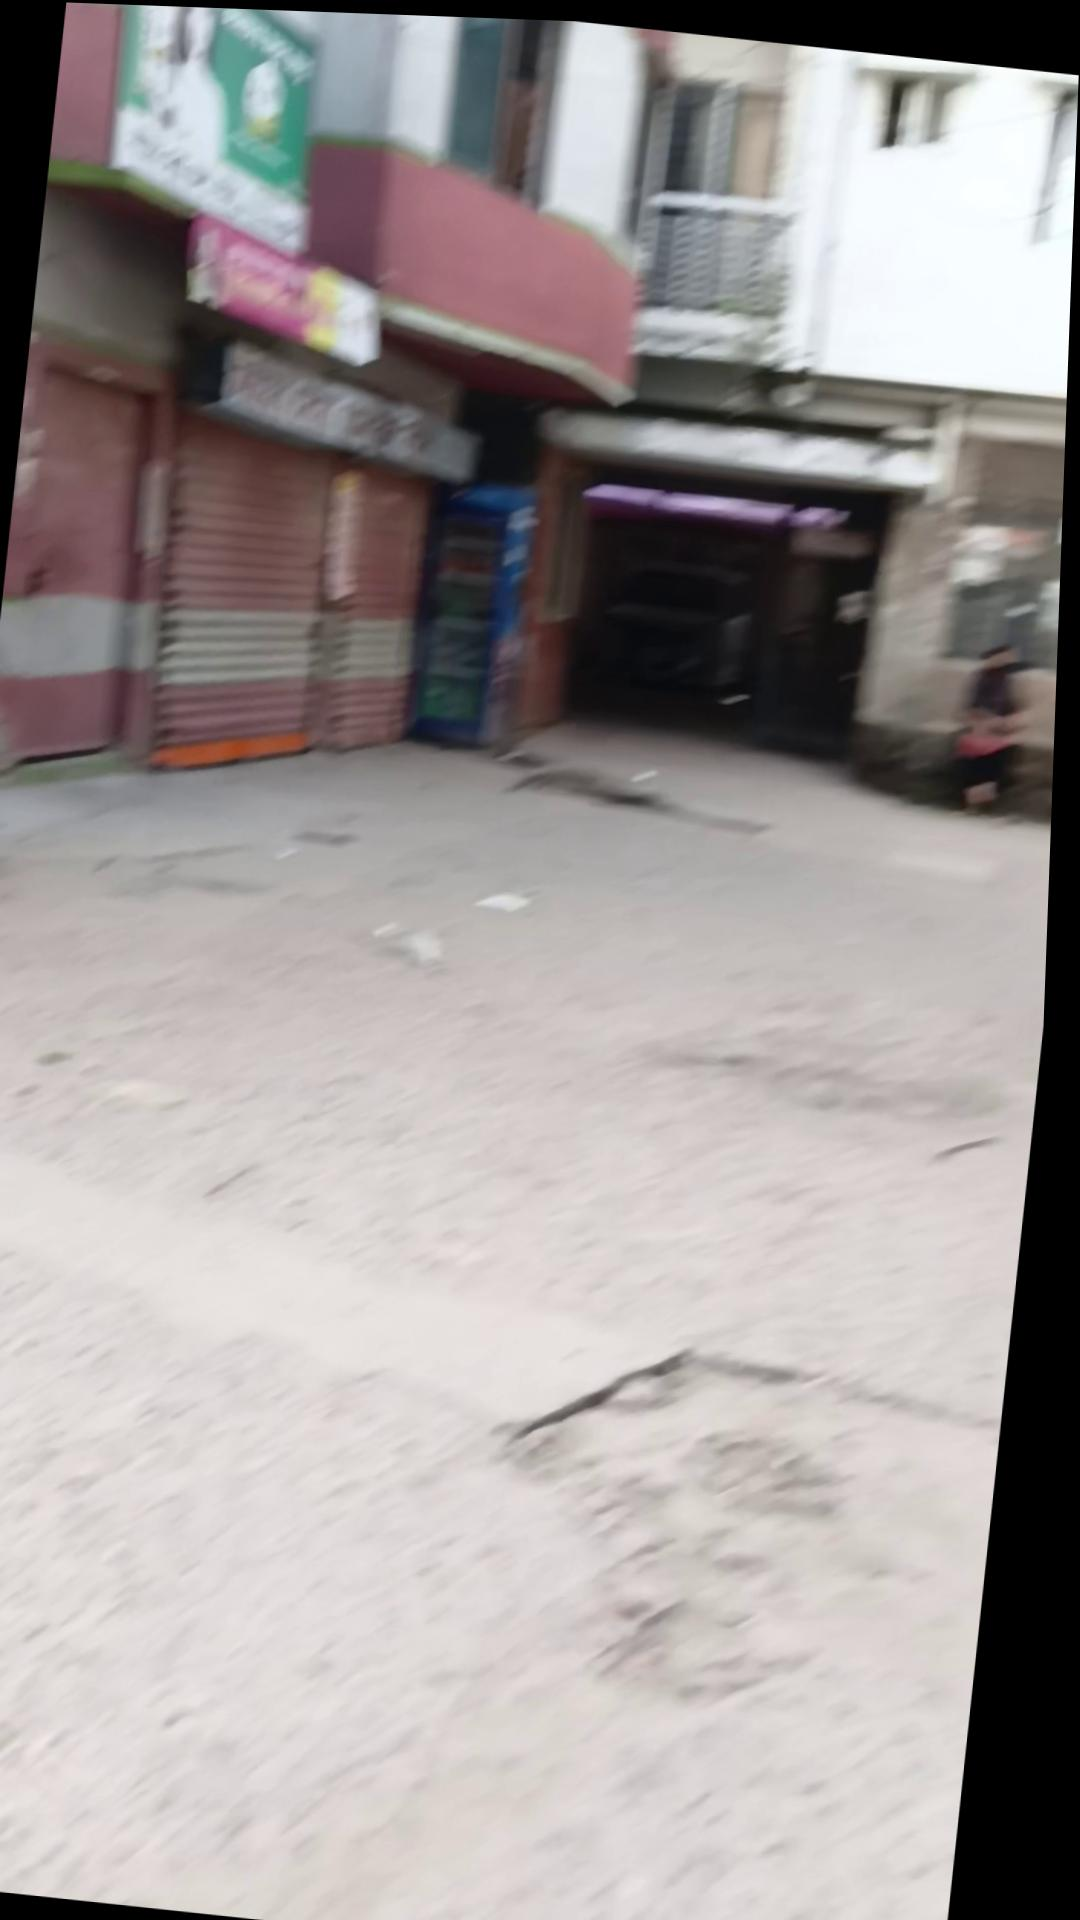Broken-road: (0, 659, 1060, 1920)
Car: (571, 542, 781, 711)
Crosswalk: (152, 709, 319, 783)
Muddy road: (948, 628, 1043, 812)
